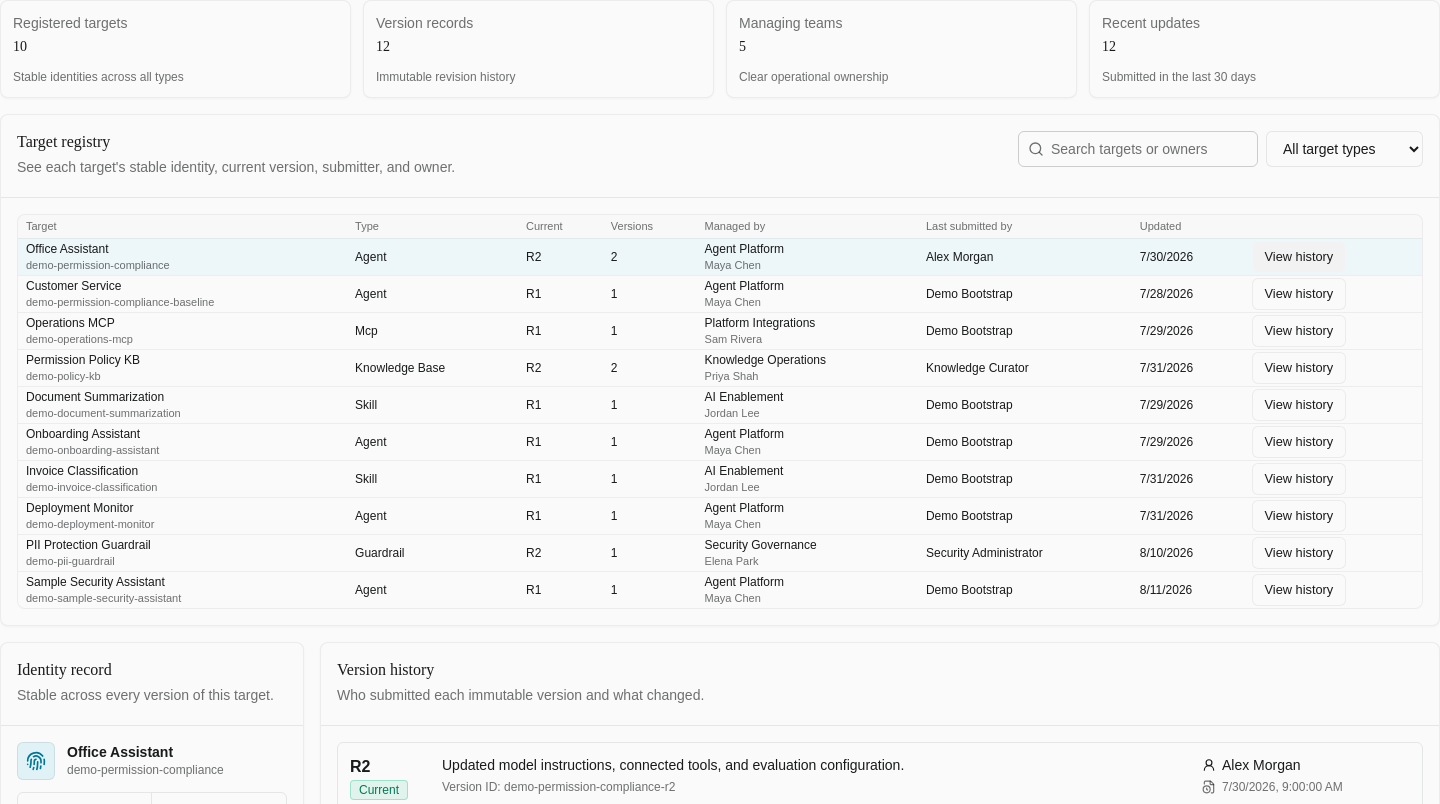
Test: IdManagementPage › filters targets by identity or owner
Type "Office Assistant" into the field named "Search target identities" at (1138, 149), box [1018,131,1258,167]
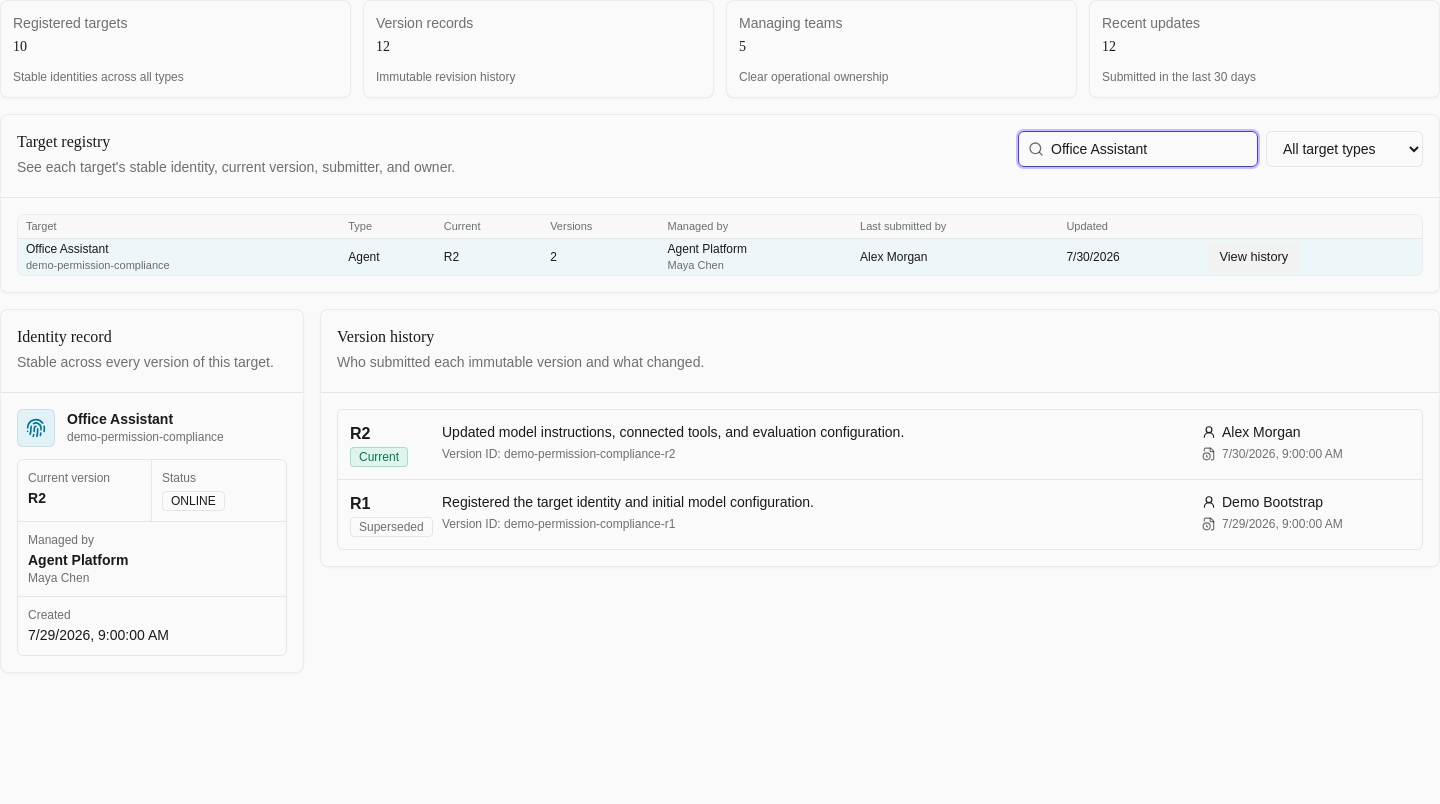
Expected: the text "Office Assistant" below "Versions" is shown, [26,242,108,256]
Expected: the text "Sample Security Assistant" is gone
